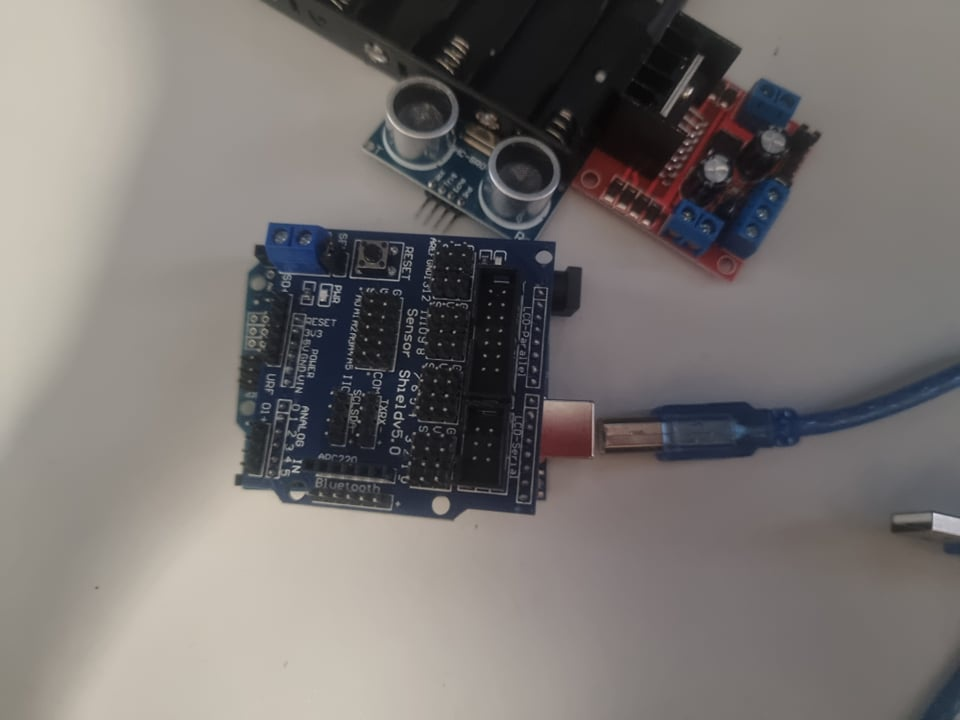5V EXPANSION: (243, 213, 535, 518)
BATTERY BOX: (275, 3, 680, 150)
MOTOR: (574, 13, 844, 282)
SENSOR: (370, 73, 559, 242)
